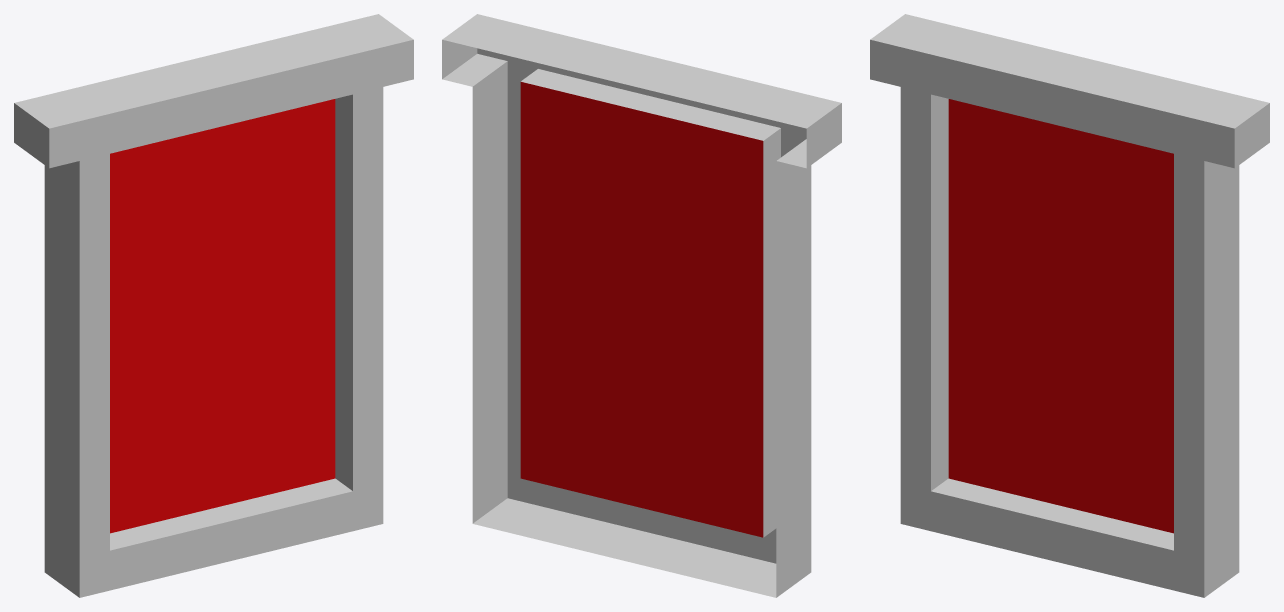
The model's file is Window1.fbx.
3 renders of one model, left to right at view 1: azimuth 30°, elevation 25°; view 2: azimuth 150°, elevation 25°; view 3: azimuth 330°, elevation 25°, orthographic.
Parts seen in each view (by area): view 1: Window1_LOD0, Window1_LOD0.001; view 2: Window1_LOD0.001, Window1_LOD0; view 3: Window1_LOD0, Window1_LOD0.001.
Part boxes in pixels (x1=…): Window1_LOD0: x1=14, y1=14, x2=413, y2=597; Window1_LOD0.001: x1=110, y1=99, x2=335, y2=533; Window1_LOD0.001: x1=520, y1=82, x2=763, y2=537; Window1_LOD0: x1=442, y1=14, x2=841, y2=597; Window1_LOD0: x1=870, y1=14, x2=1269, y2=597; Window1_LOD0.001: x1=948, y1=99, x2=1173, y2=533.
Size of the model in its own units: 120 by 150 by 20.
